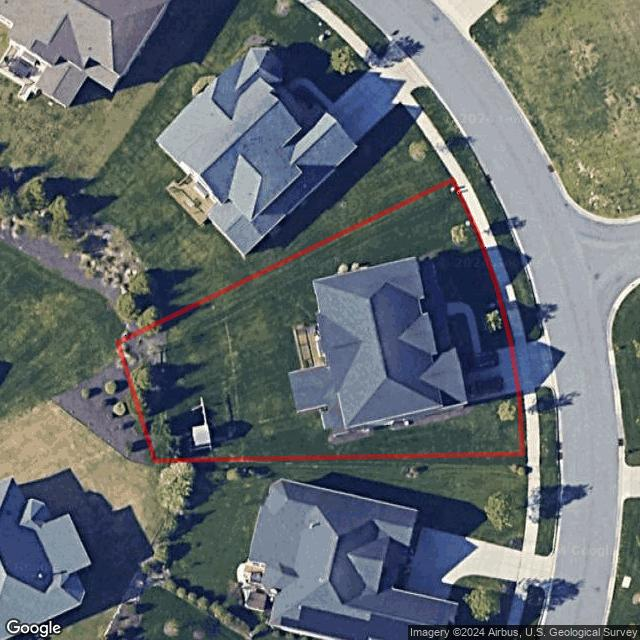Driveway: (463, 346, 520, 401)
Extra-Driveway: (512, 333, 557, 390)
Extra-Lawn: (464, 159, 545, 344), (538, 386, 561, 460), (520, 391, 528, 455)
Extra-Sidewalk: (454, 172, 527, 345), (523, 387, 540, 457)
House: (286, 254, 471, 438)
Lawn: (118, 180, 523, 462)
Other: (116, 319, 164, 449), (432, 253, 466, 304), (291, 320, 326, 369), (189, 392, 214, 453), (448, 315, 475, 359)
Sidewalk: (446, 302, 483, 356)
